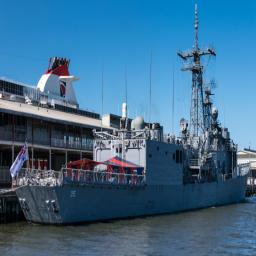Fragata: (12, 6, 251, 235)
